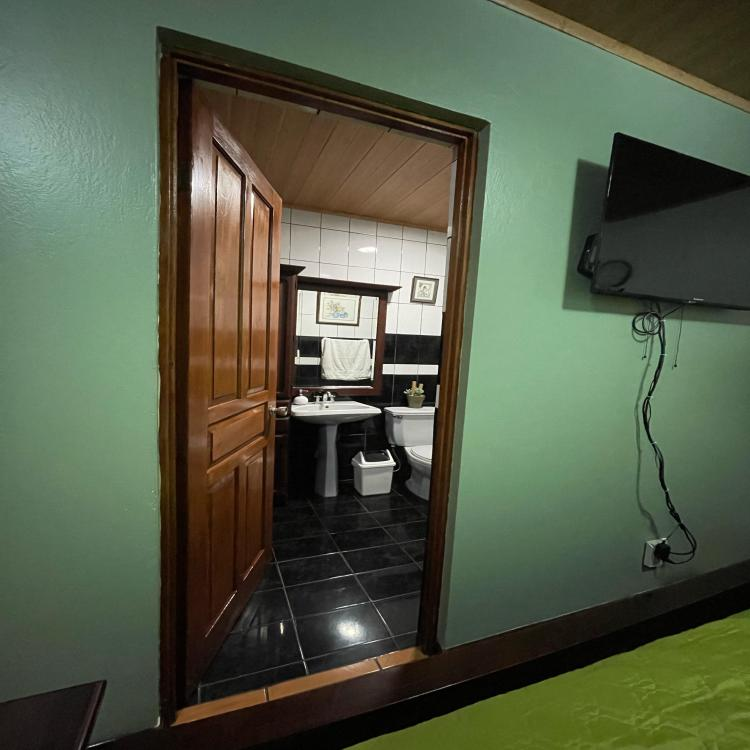OpenDoor: (154, 73, 485, 750)
